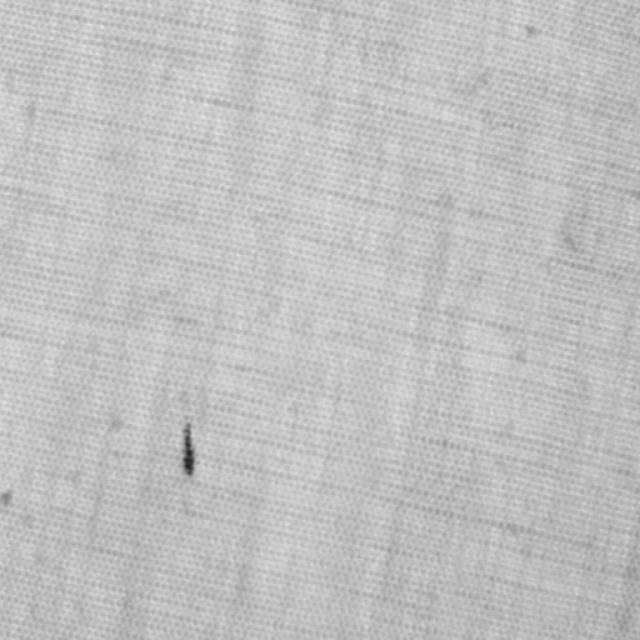oil spot: (176, 408, 199, 484)
